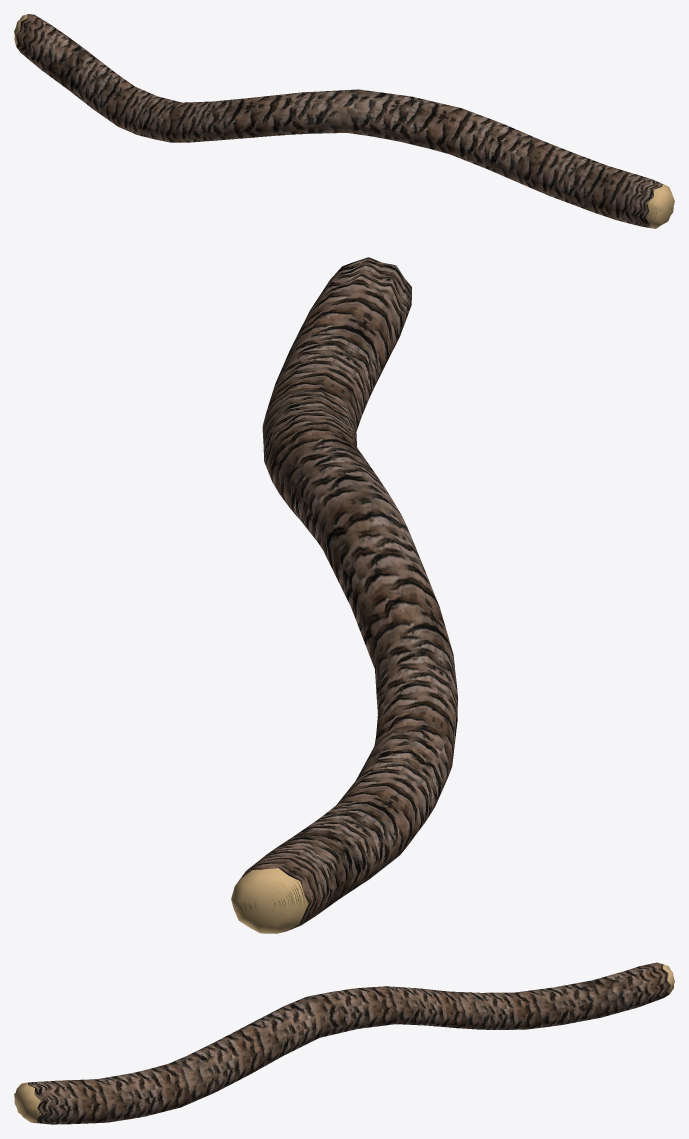
File: PalmTwist2Shape.dae
3 views of the same model, one above another, from view 1: azimuth 30°, elevation 25°; view 2: azimuth 150°, elevation 25°; view 3: azimuth 270°, elevation 25° (orthographic). The views are drawn at different scales.
Visible parts, largest first — view 1: PalmTwist2; view 2: PalmTwist2; view 3: PalmTwist2.
Part boxes in pixels (x1,y1,x2,y2): PalmTwist2: (14, 14, 674, 228); PalmTwist2: (231, 257, 457, 933); PalmTwist2: (14, 962, 674, 1124).
Size of the model in its own units: 31.29 by 8.25 by 60.47.
